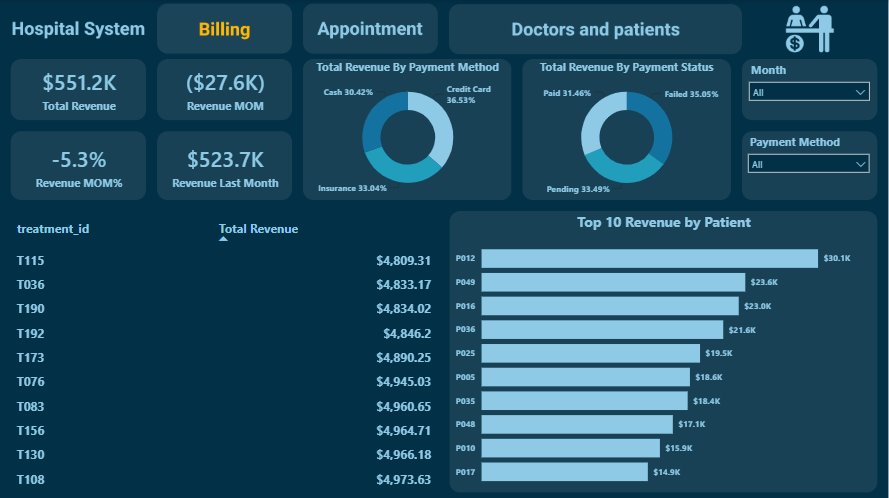

What the dashboard file says about the page in this screenshot:
{"tool":"powerbi","page":{"name":"Billing","canvas":[1280,720],"ordinal":1},"visuals":[{"type":"donutChart","title":"Total Revenue By Payment Method","fields":{"Category":["Fact Bill.payment_method"],"Y":["Dax.Total Revenue"]},"box":[436.4,84.5,301.8,204.5],"z":0},{"type":"donutChart","title":"Total Revenue By Payment Status","fields":{"Category":["Fact Bill.payment_status"],"Y":["Dax.Total Revenue"]},"box":[750.9,84.5,304.5,204.5],"z":1000},{"type":"card","fields":{"Values":["Dax.Total Revenue"]},"box":[15.5,84.5,196.4,88.2],"z":2000},{"type":"card","fields":{"Values":["Dax.Revenue MOM"]},"box":[224.5,84.5,200,88.2],"z":3000},{"type":"card","fields":{"Values":["Dax.Revenue MOM%"]},"box":[15.5,189.1,196.4,100.9],"z":4000},{"type":"card","fields":{"Values":["Dax.revenue Last Month"]},"box":[224.5,189.1,200,100.9],"z":5000},{"type":"clusteredBarChart","title":"Top 10 Revenue by Patient","fields":{"Category":["Fact Bill.patient_id"],"Y":["Dax.Total Revenue"]},"box":[648.9,305.6,613.3,406.7],"z":6000},{"type":"tableEx","title":"Top 10 Revenue by treatment","fields":{"Values":["Fact Bill.treatment_id","Dax.Total Revenue"]},"box":[12.5,305,618.8,406.2],"z":7000},{"type":"slicer","fields":{"Values":["DimDate.Month"]},"box":[1068.2,85.5,193.6,90.9],"z":8000},{"type":"slicer","fields":{"Values":["Fact Bill.payment_method"]},"box":[1066.4,189.1,195.5,100.9],"z":9000},{"type":"actionButton","box":[438.2,7.3,192.7,69.1],"z":10000},{"type":"actionButton","box":[649.1,7.3,417.3,69.1],"z":11000}]}

Visuals, with their boxes in screenshot pixels (x1, y1, x2, y2), scaled from the page's 1280x720 canvas onto the 889x498 screenshot:
"Total Revenue By Payment Method" donutChart: bbox=[303, 58, 513, 200]
"Total Revenue By Payment Status" donutChart: bbox=[522, 58, 733, 200]
card - Dax.Total Revenue: bbox=[11, 58, 147, 119]
card - Dax.Revenue MOM: bbox=[156, 58, 295, 119]
card - Dax.Revenue MOM%: bbox=[11, 131, 147, 201]
card - Dax.revenue Last Month: bbox=[156, 131, 295, 201]
"Top 10 Revenue by Patient" clusteredBarChart: bbox=[451, 211, 877, 493]
"Top 10 Revenue by treatment" tableEx: bbox=[9, 211, 438, 492]
slicer - DimDate.Month: bbox=[742, 59, 876, 122]
slicer - Fact Bill.payment_method: bbox=[741, 131, 876, 201]
actionButton: bbox=[304, 5, 438, 53]
actionButton: bbox=[451, 5, 741, 53]
